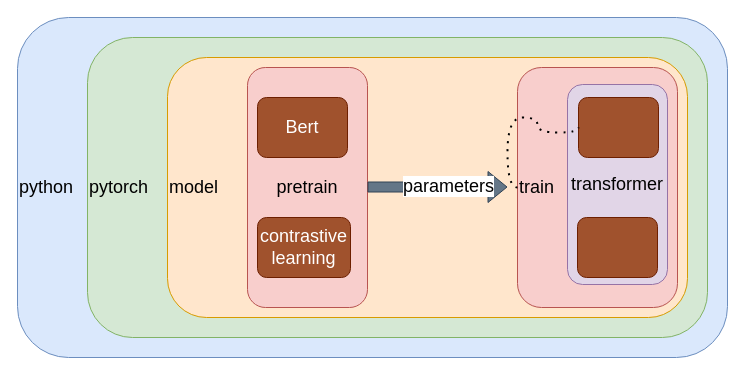
This 745x375 diagram has some shape labels left out. The centre of each missing label's shape, as x and y in pixels:
decoder: (x=617, y=247)
encoder: (x=618, y=127)
